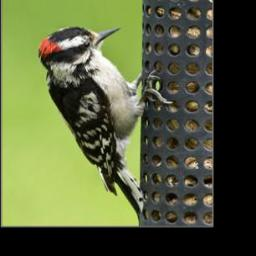Woodpecker: (39, 22, 169, 215)
